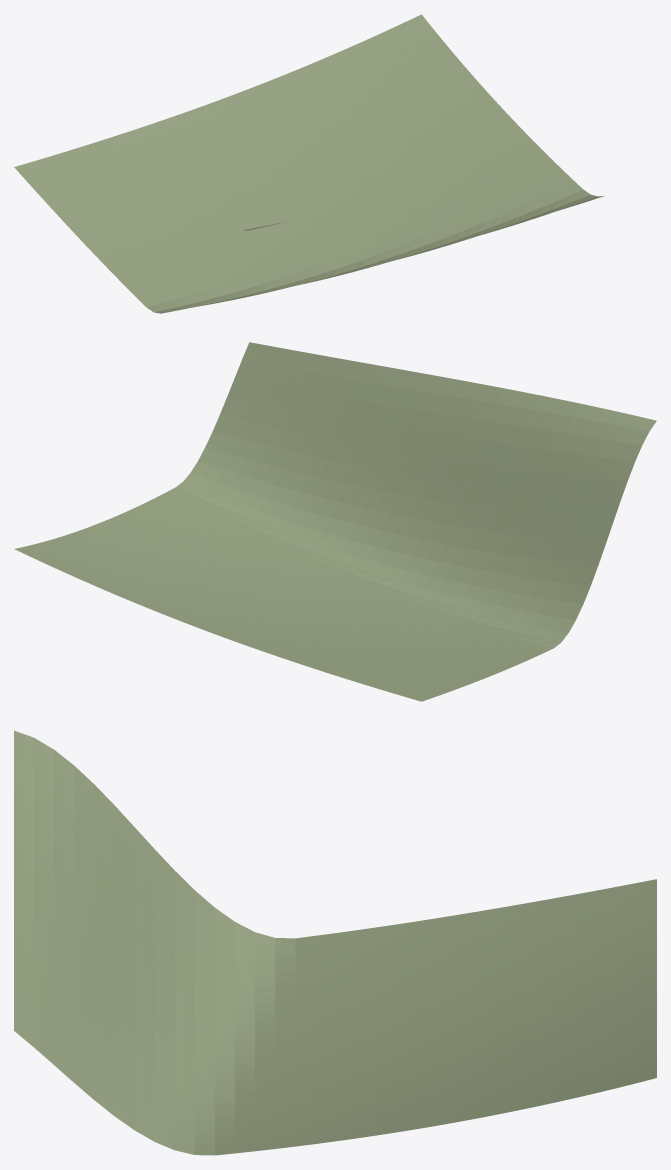
Rendered from alpine-5-10.glb.
The picture shows the model from 3 angles, top to bottom: view 1: azimuth 30°, elevation 25°; view 2: azimuth 150°, elevation 25°; view 3: azimuth 270°, elevation 25°; orthographic projection. The views are drawn at different scales.
Visible parts, largest first — view 1: alpine-5-10; view 2: alpine-5-10; view 3: alpine-5-10.
Part boxes in pixels (x1,y1,x2,y2): alpine-5-10: (14, 14, 603, 313); alpine-5-10: (14, 342, 656, 701); alpine-5-10: (14, 730, 656, 1155).
Bounding box in the file's own units: 256 × 91.45 × 256.
